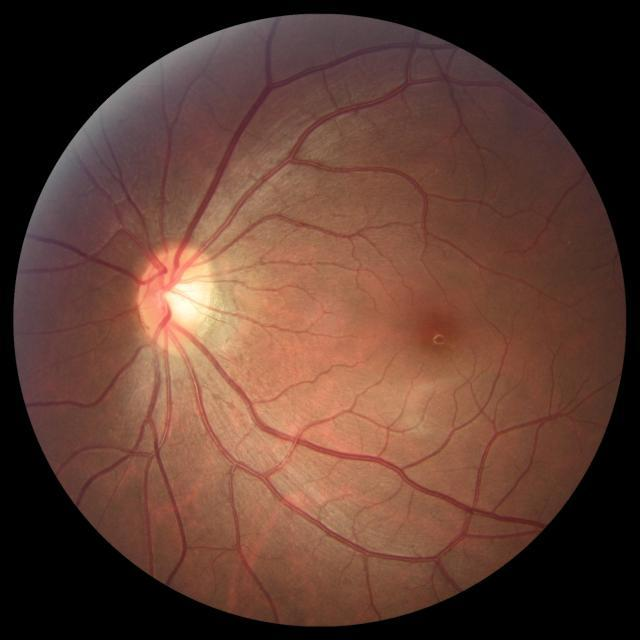OC: (155, 270, 201, 322)
OD: (138, 242, 217, 348)
